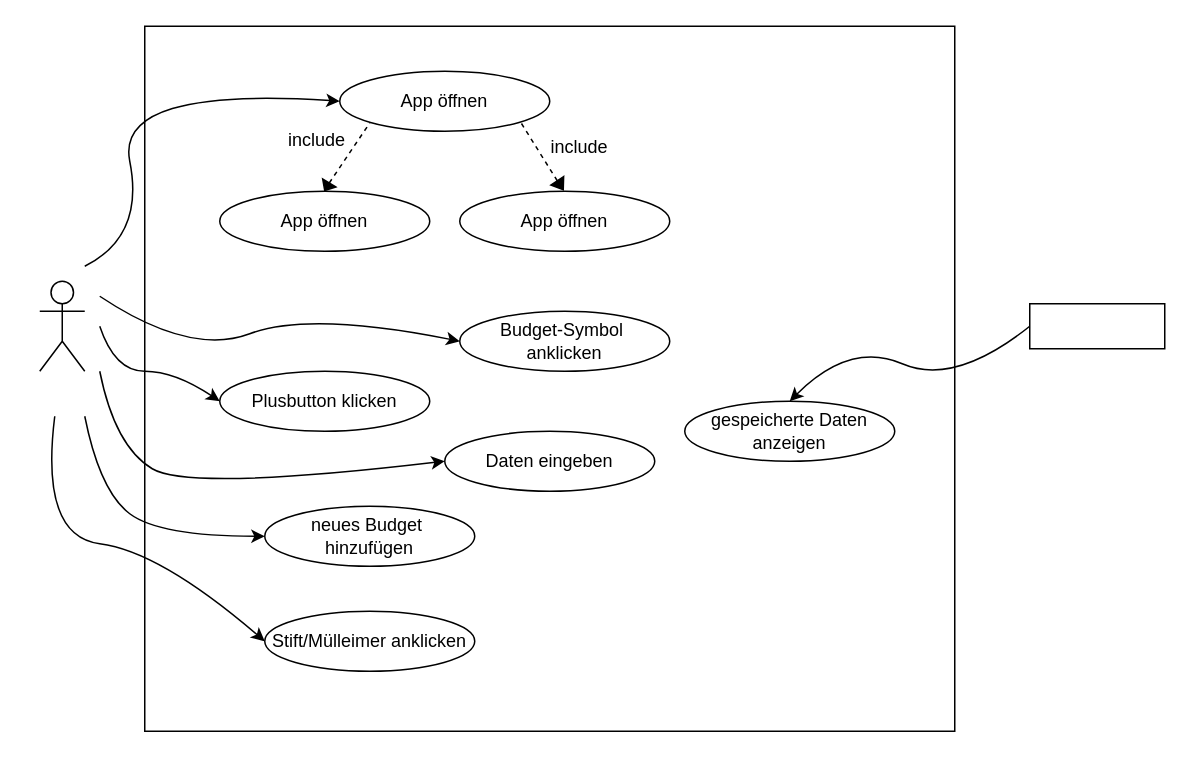
This 1191x758 diagram has some shape labels left out. The shapes that lost their labels are listed below. From the top down, each one's centre as x and y in pixels, then its label:
At pixel 61 325: "Benutzer".
At pixel 1096 325: "Datenbank".
